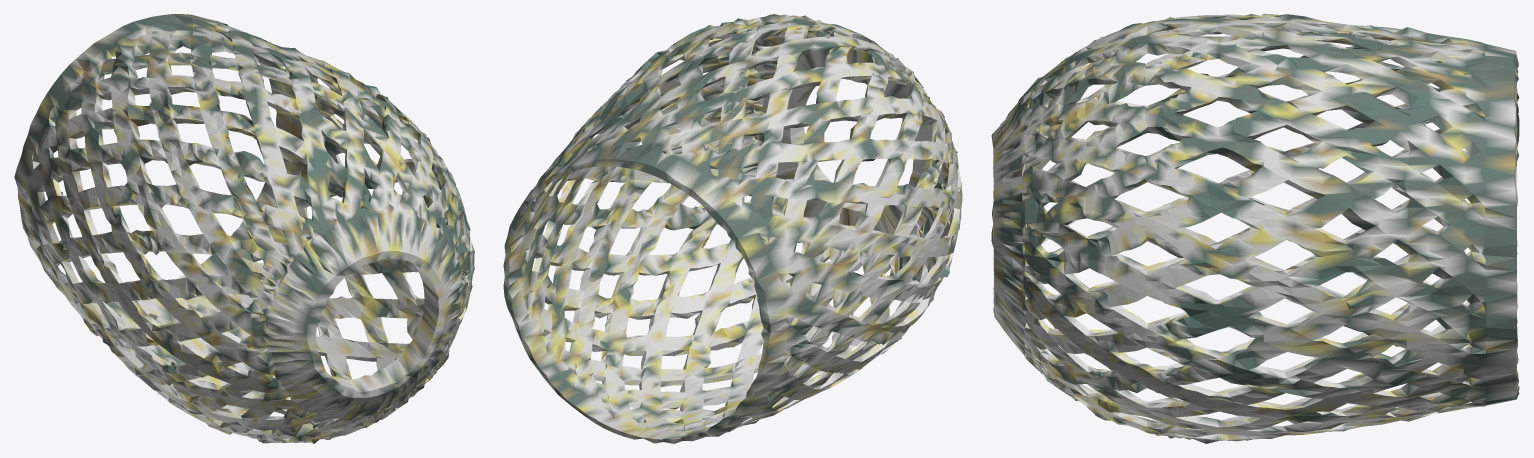
File: lamp_shade_14_final200.obj
The picture shows the model from 3 angles, left to right: view 1: azimuth 30°, elevation 25°; view 2: azimuth 150°, elevation 25°; view 3: azimuth 270°, elevation 25°; orthographic projection. The views are drawn at different scales.
Size of the model in its own units: 1.22 by 1.22 by 1.5.
